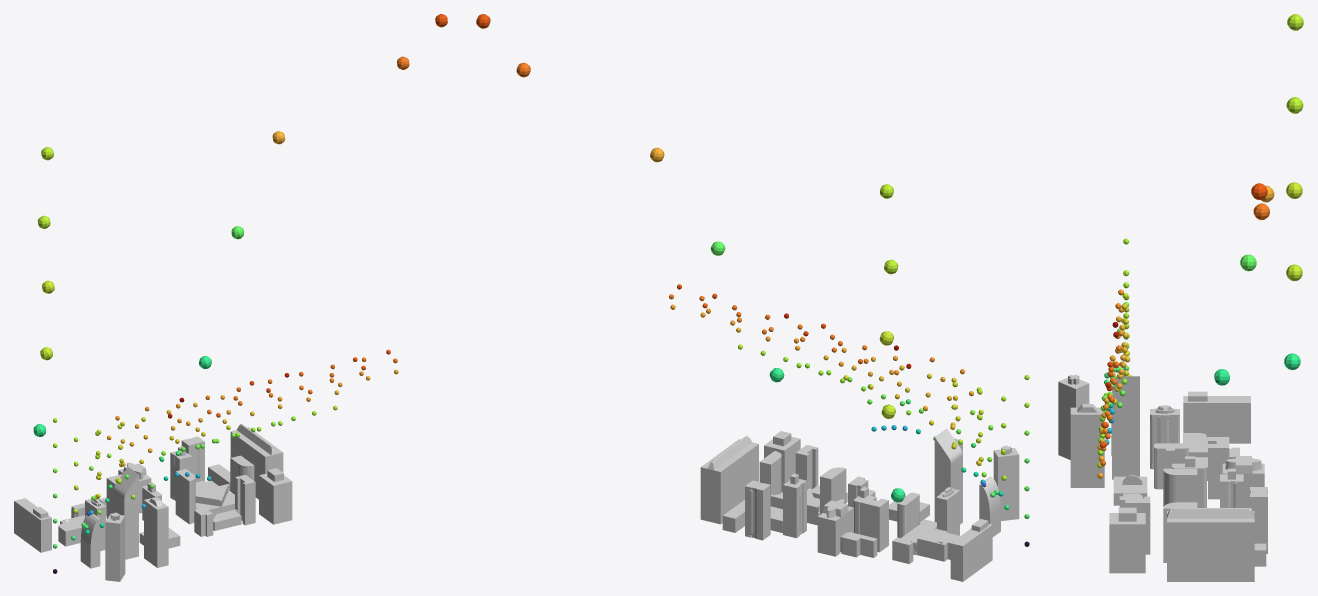
The model's file is wab_partialAnim16.glb.
3 renders of one model, left to right at view 1: azimuth 30°, elevation 25°; view 2: azimuth 150°, elevation 25°; view 3: azimuth 270°, elevation 25°, orthographic. The views are drawn at different scales.
Parts seen in each view (by area): view 1: mesh0, Renderer Node; view 2: mesh0, Renderer Node; view 3: mesh0, Renderer Node, Renderer Node.010, Renderer Node.012, Renderer Node.004.
Boxes of the visible parts, bbox=[...] form: mesh0: bbox=[14, 424, 292, 581]; Renderer Node: bbox=[33, 14, 447, 436]; mesh0: bbox=[700, 428, 1019, 581]; Renderer Node: bbox=[476, 14, 905, 502]; mesh0: bbox=[1058, 374, 1267, 581]; Renderer Node: bbox=[1214, 14, 1303, 385]; Renderer Node.010: bbox=[1097, 284, 1129, 478]; Renderer Node.012: bbox=[1098, 238, 1128, 461]; Renderer Node.004: bbox=[1097, 307, 1132, 468].
Size of what is drawn, in the model's own units: 3.12 by 2.76 by 1.18.
15 materials, 14 textured.
